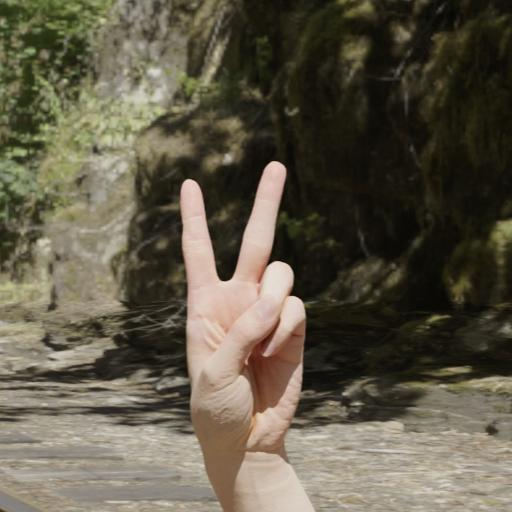V: (177, 154, 312, 464)
